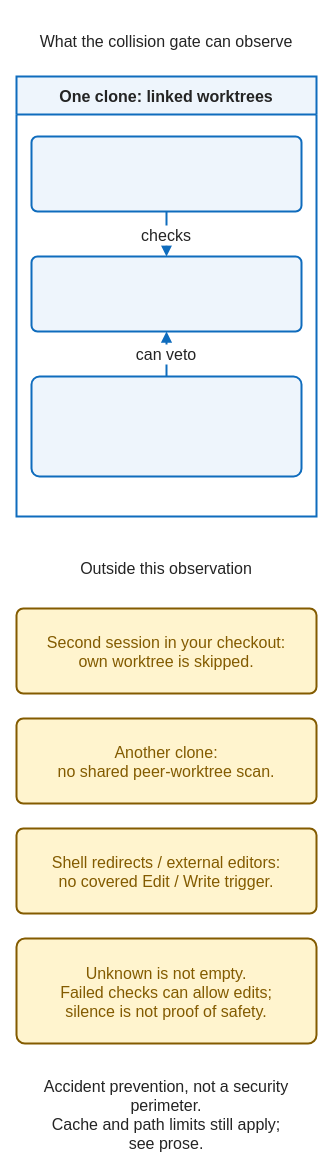
Image size: 333x1175. Some labels were removed from this diagram. The shapes that lost their labels are listed below. From the top down, each one's centre as x and y in pixels, then its label:
[166,173]: Your worktree Edit / Write request
[166,293]: Collision gate reads peer overlap
[166,426]: Live peer worktree Uncommitted same path
